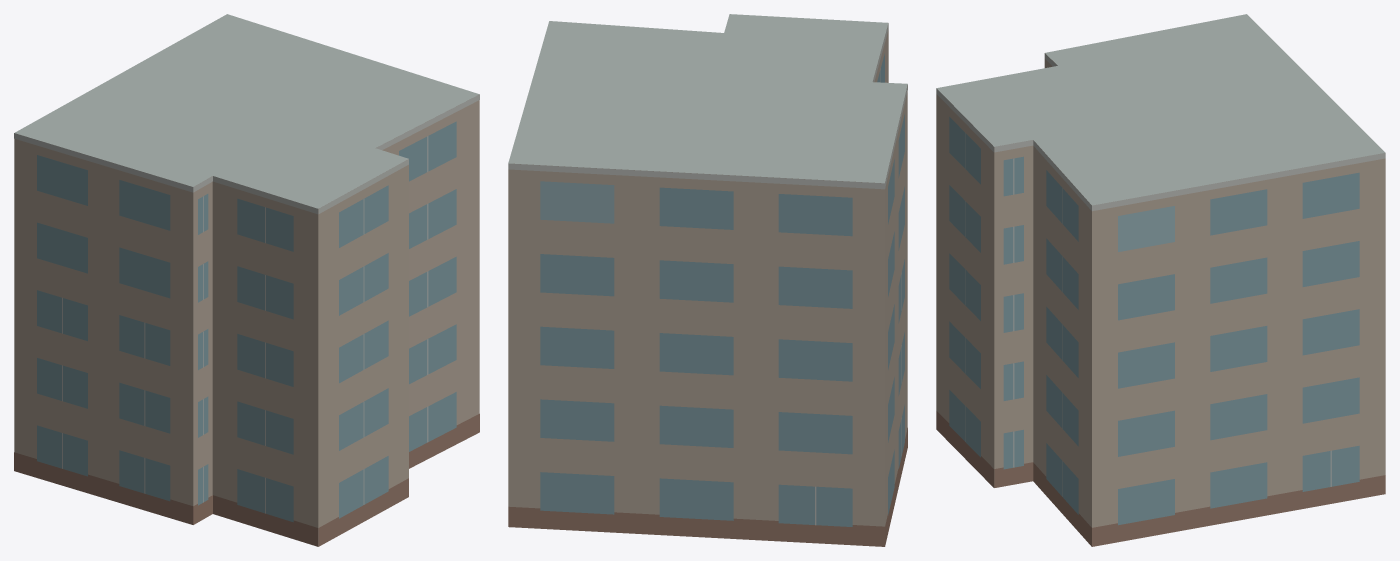
The model's file is survey-upis-32845801.glb.
3 views of the same model, side by side, from view 1: azimuth 30°, elevation 25°; view 2: azimuth 150°, elevation 25°; view 3: azimuth 270°, elevation 25° (orthographic). The views are drawn at different scales.
Parts seen in each view (by area): view 1: survey-upis-32845801.tmp; view 2: survey-upis-32845801.tmp; view 3: survey-upis-32845801.tmp.
Boxes of the visible parts, x1,y1,x2,y2 form: survey-upis-32845801.tmp: [14, 14, 479, 546]; survey-upis-32845801.tmp: [508, 14, 907, 546]; survey-upis-32845801.tmp: [936, 14, 1385, 546].
Bounding box in the file's own units: 17.71 × 14.7 × 17.54.
